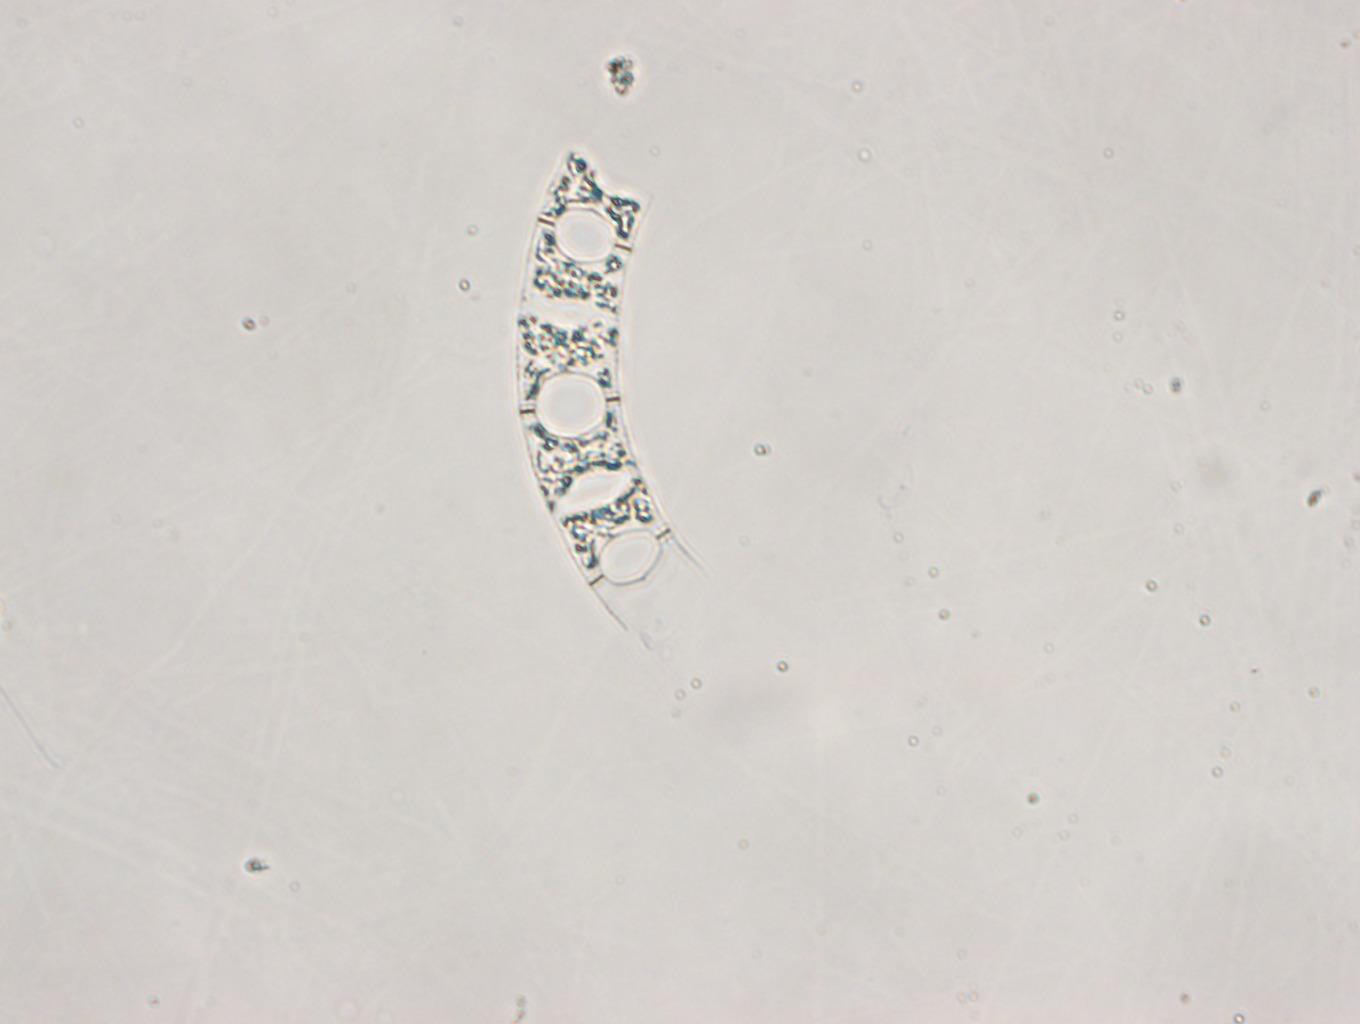eucampia: (511, 142, 701, 630)
